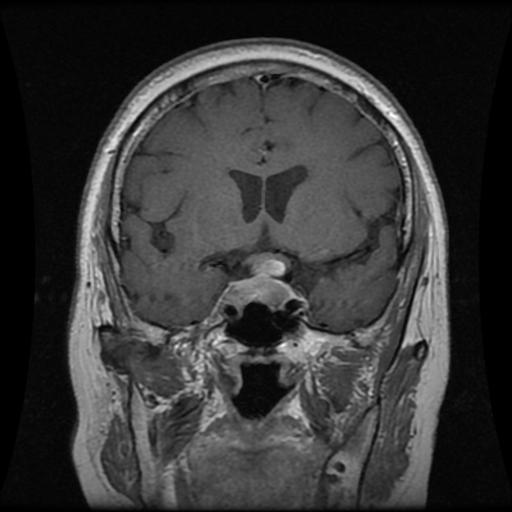Pituirity_tumour: (227, 254, 287, 303)
